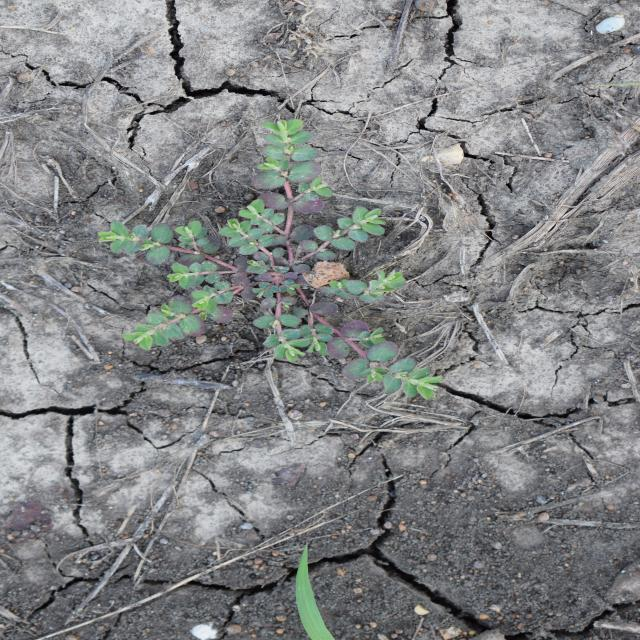SpottedSpurge: (94, 117, 446, 403)
